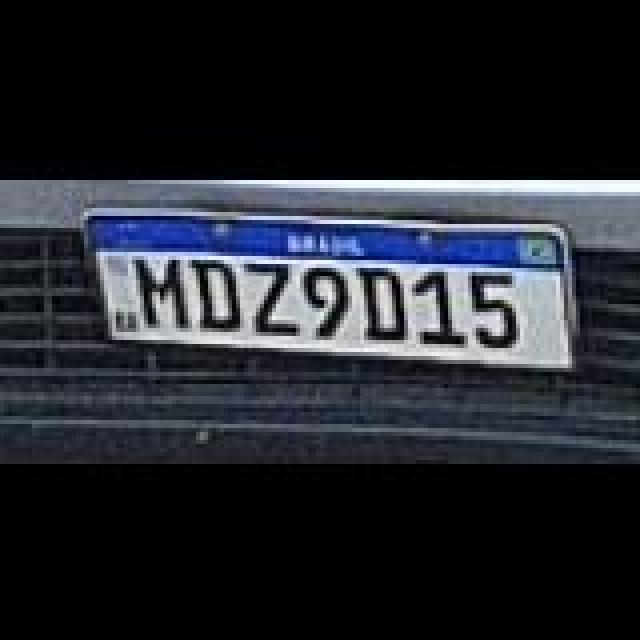1: (412, 270, 468, 346)
5: (468, 270, 524, 346)
9: (302, 264, 354, 336)
D: (354, 266, 414, 342), (192, 256, 248, 328)
M: (136, 252, 192, 324)
Z: (242, 258, 302, 334)
